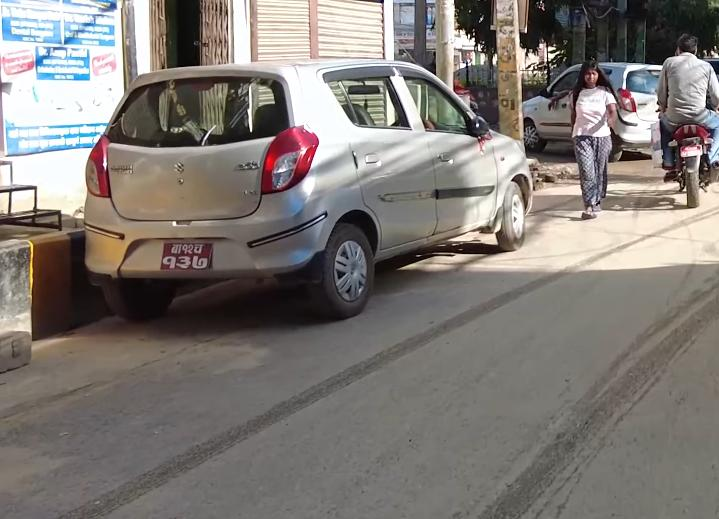bike: (669, 110, 719, 211)
car: (67, 56, 546, 330)
